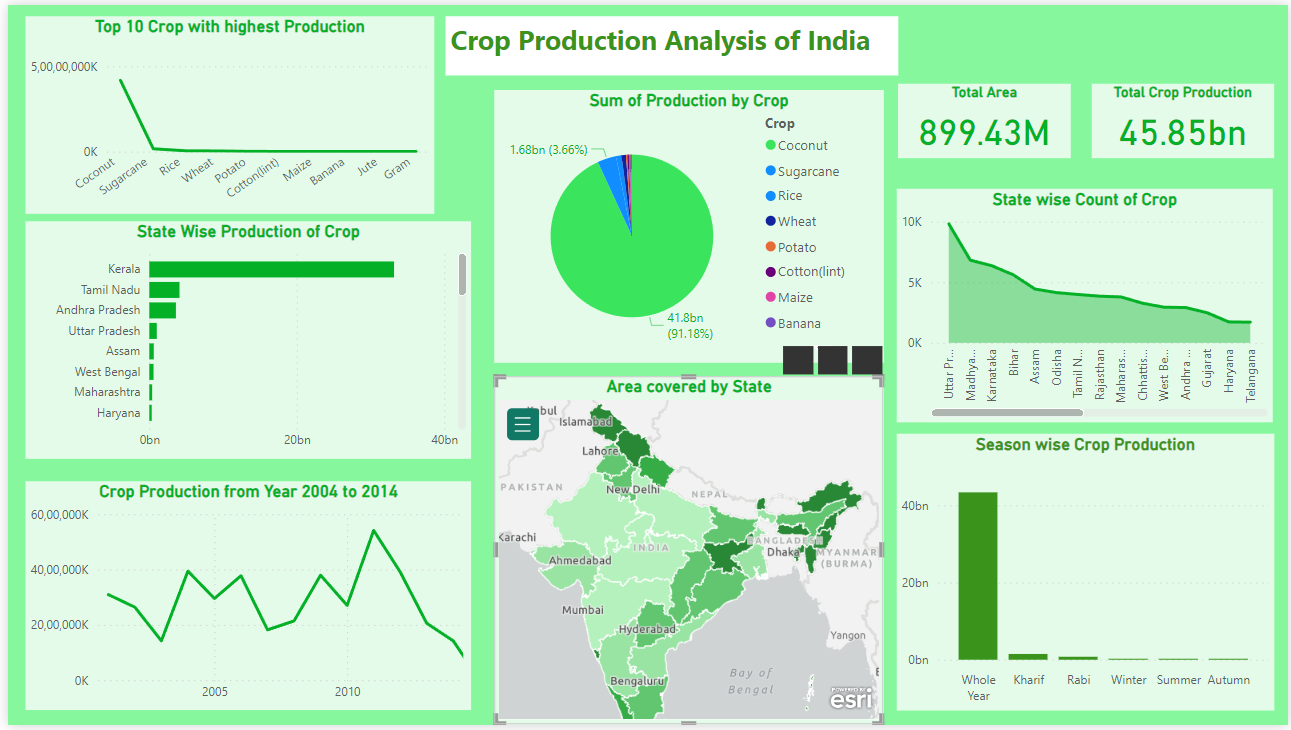

What the dashboard file says about the page in this screenshot:
{"tool":"powerbi","page":{"name":"Page 1","canvas":[1280,720],"ordinal":0},"visuals":[{"type":"barChart","title":"State Wise Production of Crop","fields":{"Category":["Power BI enabled Crop Production Analysis.State_Name"],"Y":["Sum(Power BI enabled Crop Production Analysis.Production)"]},"box":[17.8,216.8,446,237.4],"z":0},{"type":"columnChart","title":"Season wise Crop Production","fields":{"Category":["Power BI enabled Crop Production Analysis.Season"],"Y":["Sum(Power BI enabled Crop Production Analysis.Production)"]},"box":[889.2,428.1,377.4,277.2],"z":1000},{"type":"lineChart","title":"Top 10 Crop with highest Production","fields":{"Category":["Power BI enabled Crop Production Analysis.Crop"],"Y":["Sum(Power BI enabled Crop Production Analysis.Production)"]},"box":[17.8,11,408.9,197.6],"z":2000},{"type":"lineChart","title":"Crop Production from Year 2004 to 2014","fields":{"Category":["Power BI enabled Crop Production Analysis.Crop_Year"],"Y":["Sum(Power BI enabled Crop Production Analysis.Production)"]},"box":[17.8,476.2,446,229.2],"z":3000},{"type":"areaChart","title":"State wise Count of Crop","fields":{"Category":["Power BI enabled Crop Production Analysis.State_Name"],"Y":["CountNonNull(Power BI enabled Crop Production Analysis.Crop)"]},"box":[889.2,183.9,376,233.3],"z":4000},{"type":"esriVisual","title":"Area covered by State","fields":{"Location":["Power BI enabled Crop Production Analysis.State_Name"],"Color":["Sum(Power BI enabled Crop Production Analysis.Area)"]},"box":[485.8,371.9,389.7,348.5],"z":5000},{"type":"textbox","box":[437.7,11,452.8,59],"z":7000},{"type":"pieChart","fields":{"Category":["Power BI enabled Crop Production Analysis.Crop"],"Y":["Sum(Power BI enabled Crop Production Analysis.Production)"]},"box":[485.8,85.1,389.7,273.1],"z":8000},{"type":"card","title":"Total Crop Production","fields":{"Values":["Sum(Power BI enabled Crop Production Analysis.Production)"]},"box":[1084.1,78.2,182.5,74.1],"z":8001},{"type":"card","title":"Total Area ","fields":{"Values":["Sum(Power BI enabled Crop Production Analysis.Area)"]},"box":[890.6,78.2,172.9,74.1],"z":8002}]}

Visuals, with their boxes in screenshot pixels (x1, y1, x2, y2), scaled from the page's 1280x720 canvas onto the 1291x730 screenshot:
"State Wise Production of Crop" barChart: <bbox>18, 220, 468, 461</bbox>
"Season wise Crop Production" columnChart: <bbox>897, 434, 1277, 715</bbox>
"Top 10 Crop with highest Production" lineChart: <bbox>18, 11, 430, 211</bbox>
"Crop Production from Year 2004 to 2014" lineChart: <bbox>18, 483, 468, 715</bbox>
"State wise Count of Crop" areaChart: <bbox>897, 186, 1276, 423</bbox>
"Area covered by State" esriVisual: <bbox>490, 377, 883, 729</bbox>
textbox: <bbox>441, 11, 898, 71</bbox>
pieChart - Power BI enabled Crop Production Analysis.Crop x Sum(Power BI enabled Crop Production Analysis.Production): <bbox>490, 86, 883, 363</bbox>
"Total Crop Production" card: <bbox>1093, 79, 1277, 154</bbox>
"Total Area " card: <bbox>898, 79, 1073, 154</bbox>
